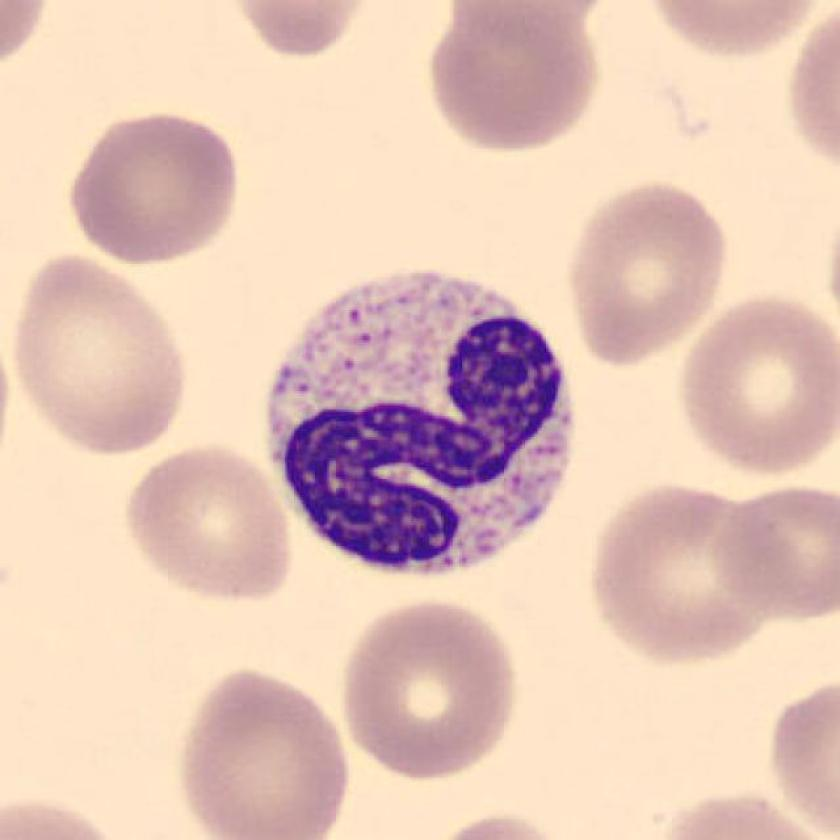neutrophil: (272, 272, 570, 571)
